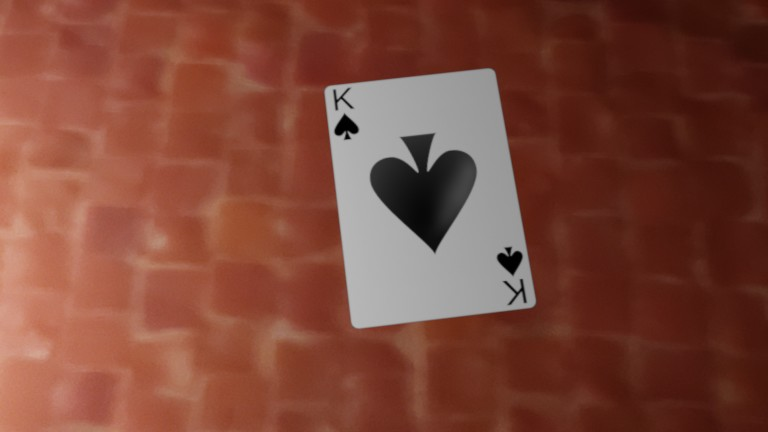king_of_spades: (196, 98, 214, 123), (130, 35, 146, 57)
